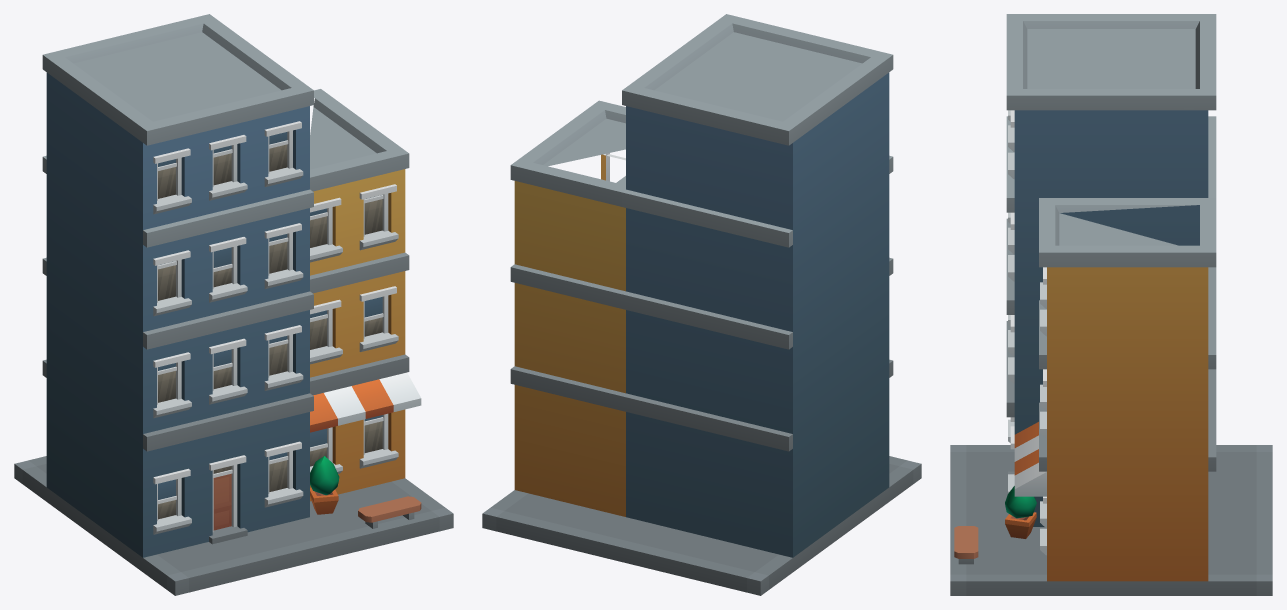
Rendered from Building.glb.
The picture shows the model from 3 angles, left to right: view 1: azimuth 30°, elevation 25°; view 2: azimuth 150°, elevation 25°; view 3: azimuth 270°, elevation 25°; orthographic projection.
Parts seen in each view (by area): view 1: building_H; view 2: building_H; view 3: building_H.
Boxes of the visible parts, x1,y1,x2,y2 form: building_H: (14,14,453,595); building_H: (482,14,921,595); building_H: (950,14,1272,595).
Bounding box in the file's own units: 2 × 3.05 × 2.
1 material, 1 textured.
